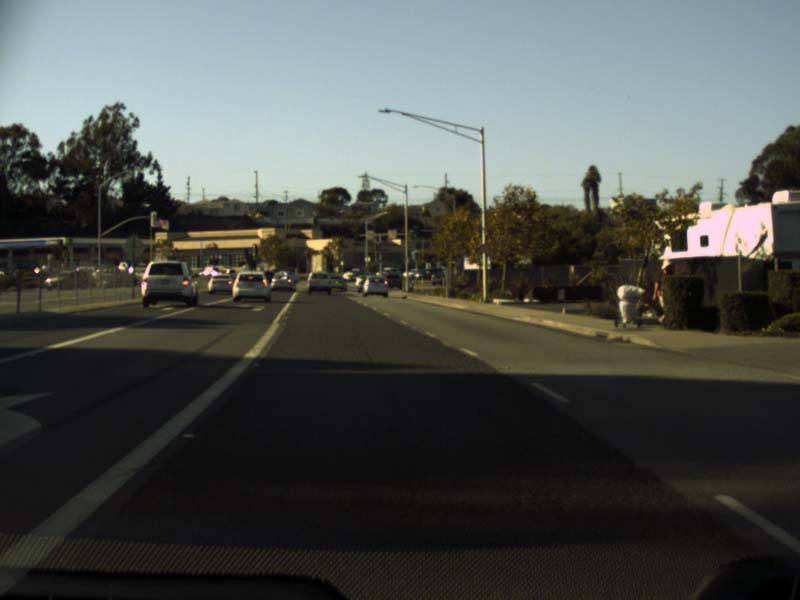Green: (412, 226, 417, 237)
